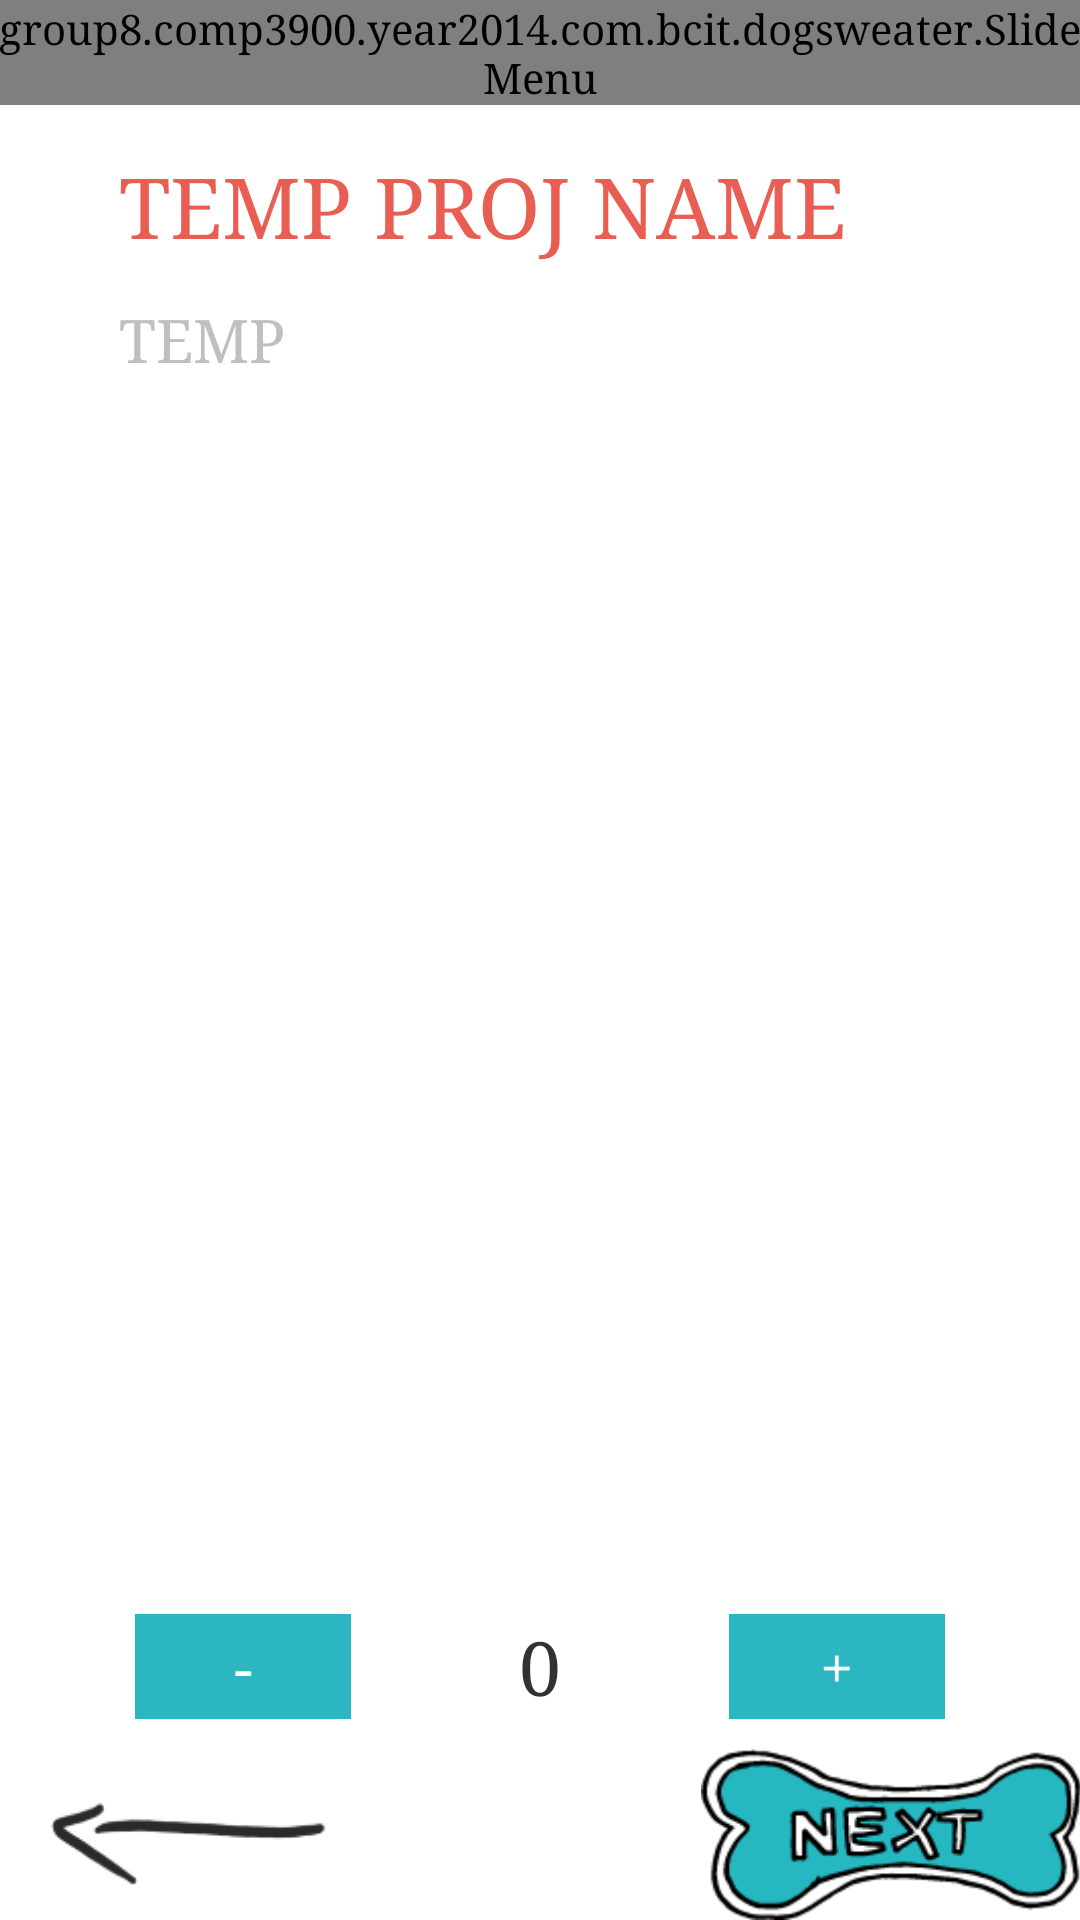

Where to tap for icons on this 1080px×1920px app screen, as point (x, y):
dyi back: point (188, 1844)
